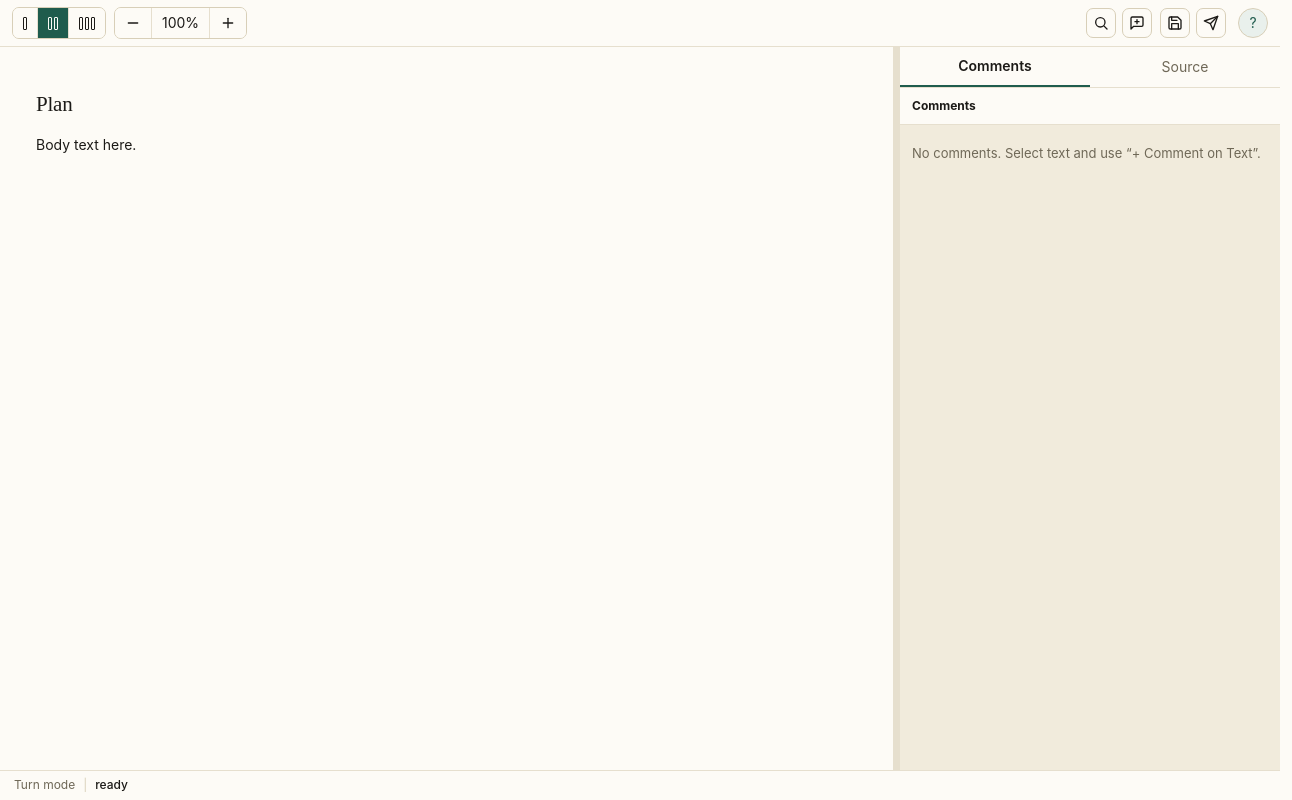
App panes / tabs / zoom (memory-backed) › 1-pane shows preview only — no Comments rail, no tabs
Click the button named "1 pane".
click(26, 23)  # box [13,8,38,38]
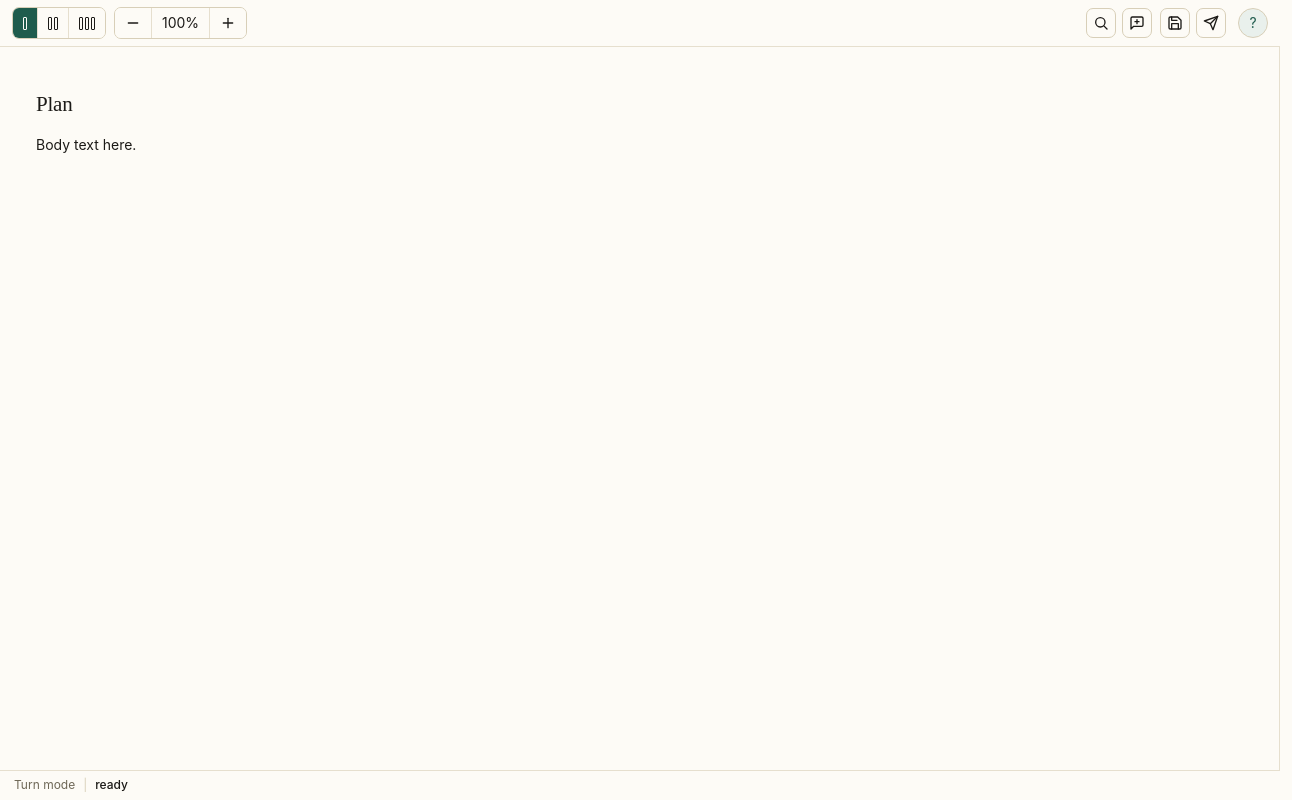
Expected: the text "No comments." is gone
Expected: the button "Source" is gone
Expected: the button "Comments" is gone
